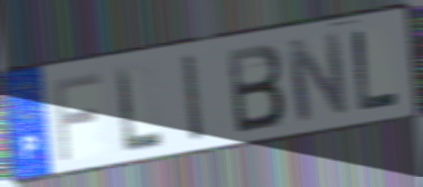B: (224, 40, 288, 137)
F: (50, 69, 104, 164)
I: (179, 50, 207, 146)
L: (113, 61, 166, 156), (349, 26, 402, 114)
N: (283, 29, 352, 126)
